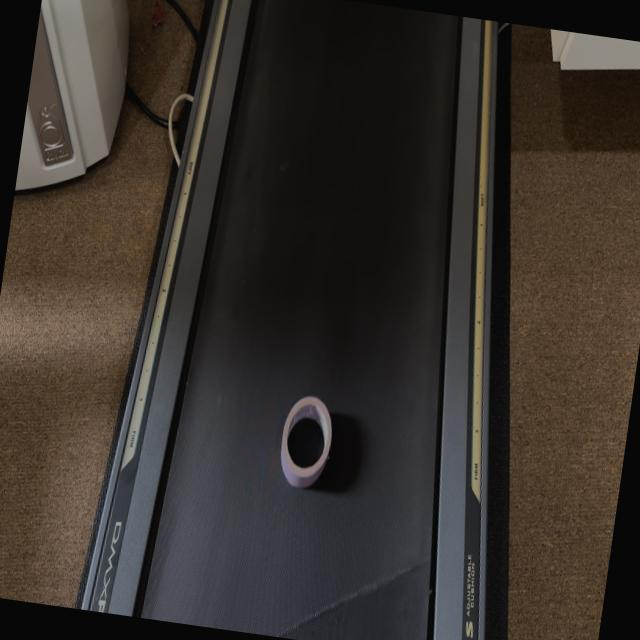Trash: (276, 394, 338, 492)
